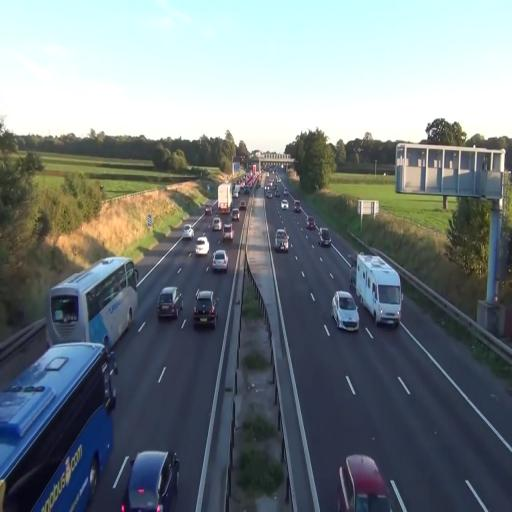vehicle: (0, 340, 117, 508), (45, 255, 138, 351), (355, 250, 402, 328), (124, 448, 180, 512), (337, 454, 397, 512), (332, 292, 360, 332), (156, 285, 184, 324), (192, 290, 218, 329), (217, 181, 233, 217), (274, 227, 290, 252), (211, 250, 228, 273), (195, 235, 210, 257), (318, 228, 331, 246), (181, 224, 194, 242)
